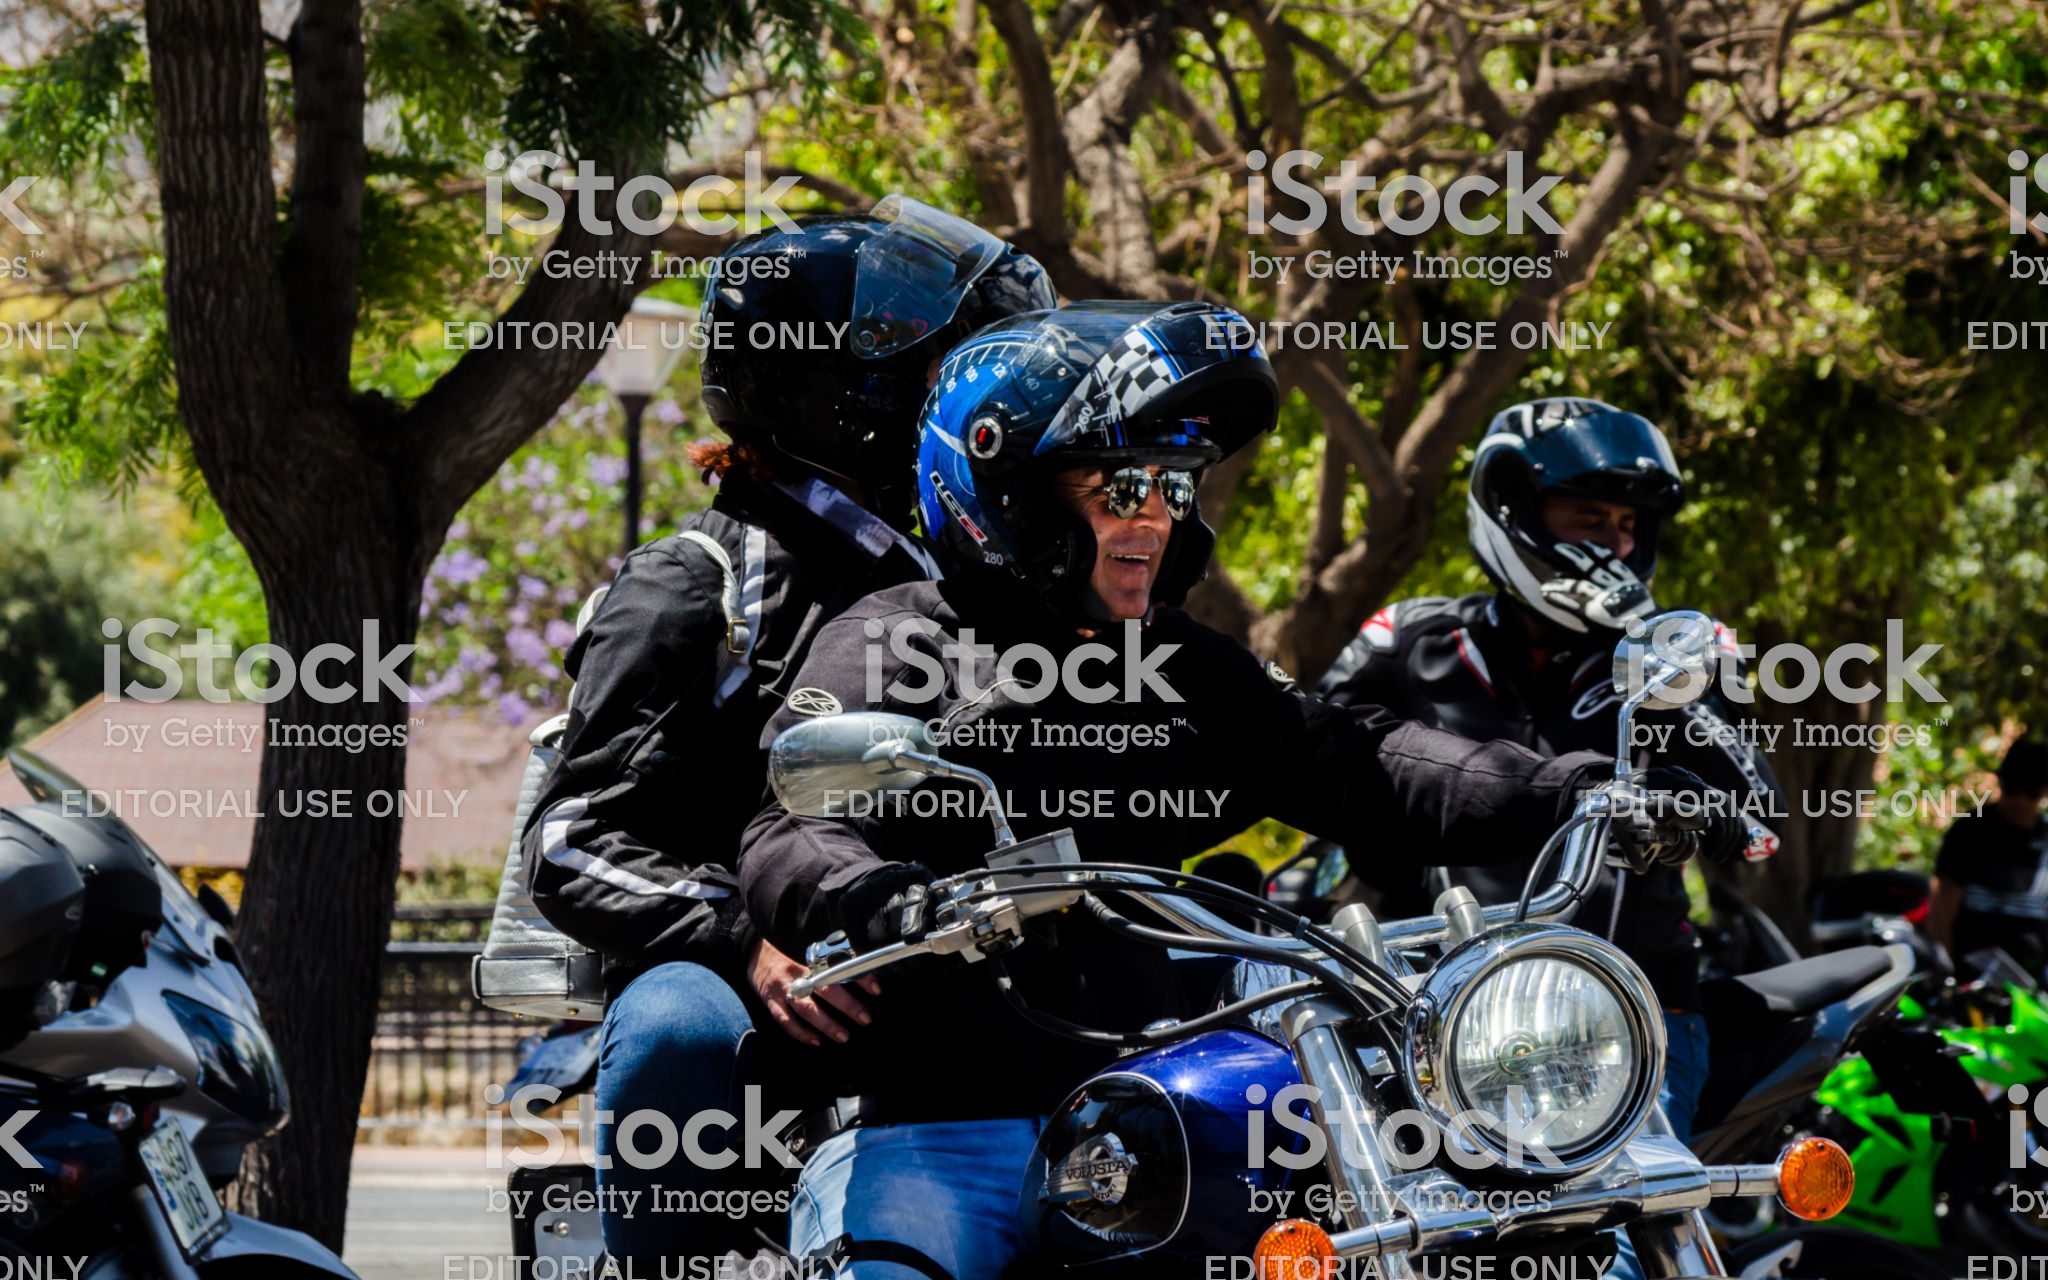helmet: (920, 304, 1256, 636), (1452, 379, 1684, 659)
